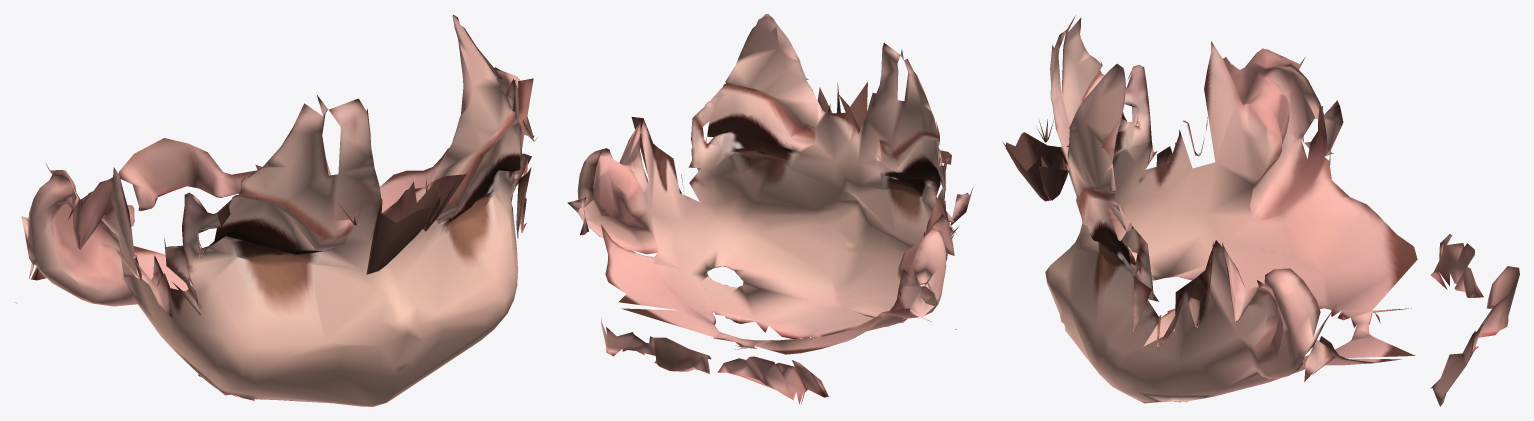
3 renders of one model, left to right at view 1: azimuth 30°, elevation 25°; view 2: azimuth 150°, elevation 25°; view 3: azimuth 270°, elevation 25°, orthographic. The views are drawn at different scales.
Parts seen in each view (by area): view 1: Face; view 2: Face; view 3: Face.
Part boxes in pixels (bbox=[...]): Face: bbox=[15, 14, 537, 406]; Face: bbox=[567, 14, 973, 404]; Face: bbox=[1002, 15, 1519, 406].
Bounding box in the file's own units: 0.7583 × 0.5225 × 0.7032.
Materials: 1 (1 with a texture image).
